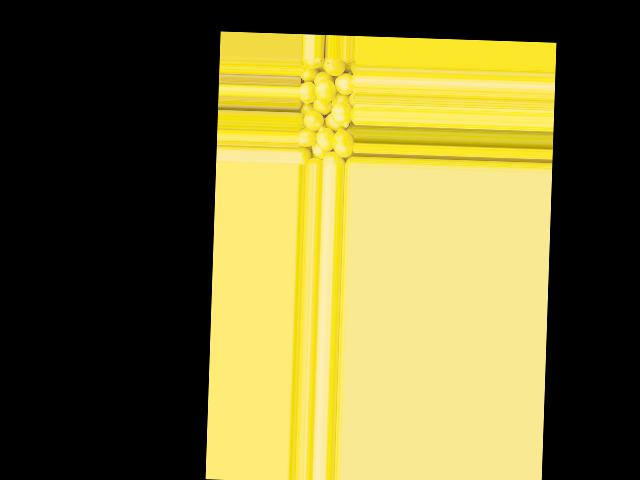lemon: (302, 110, 326, 129)
